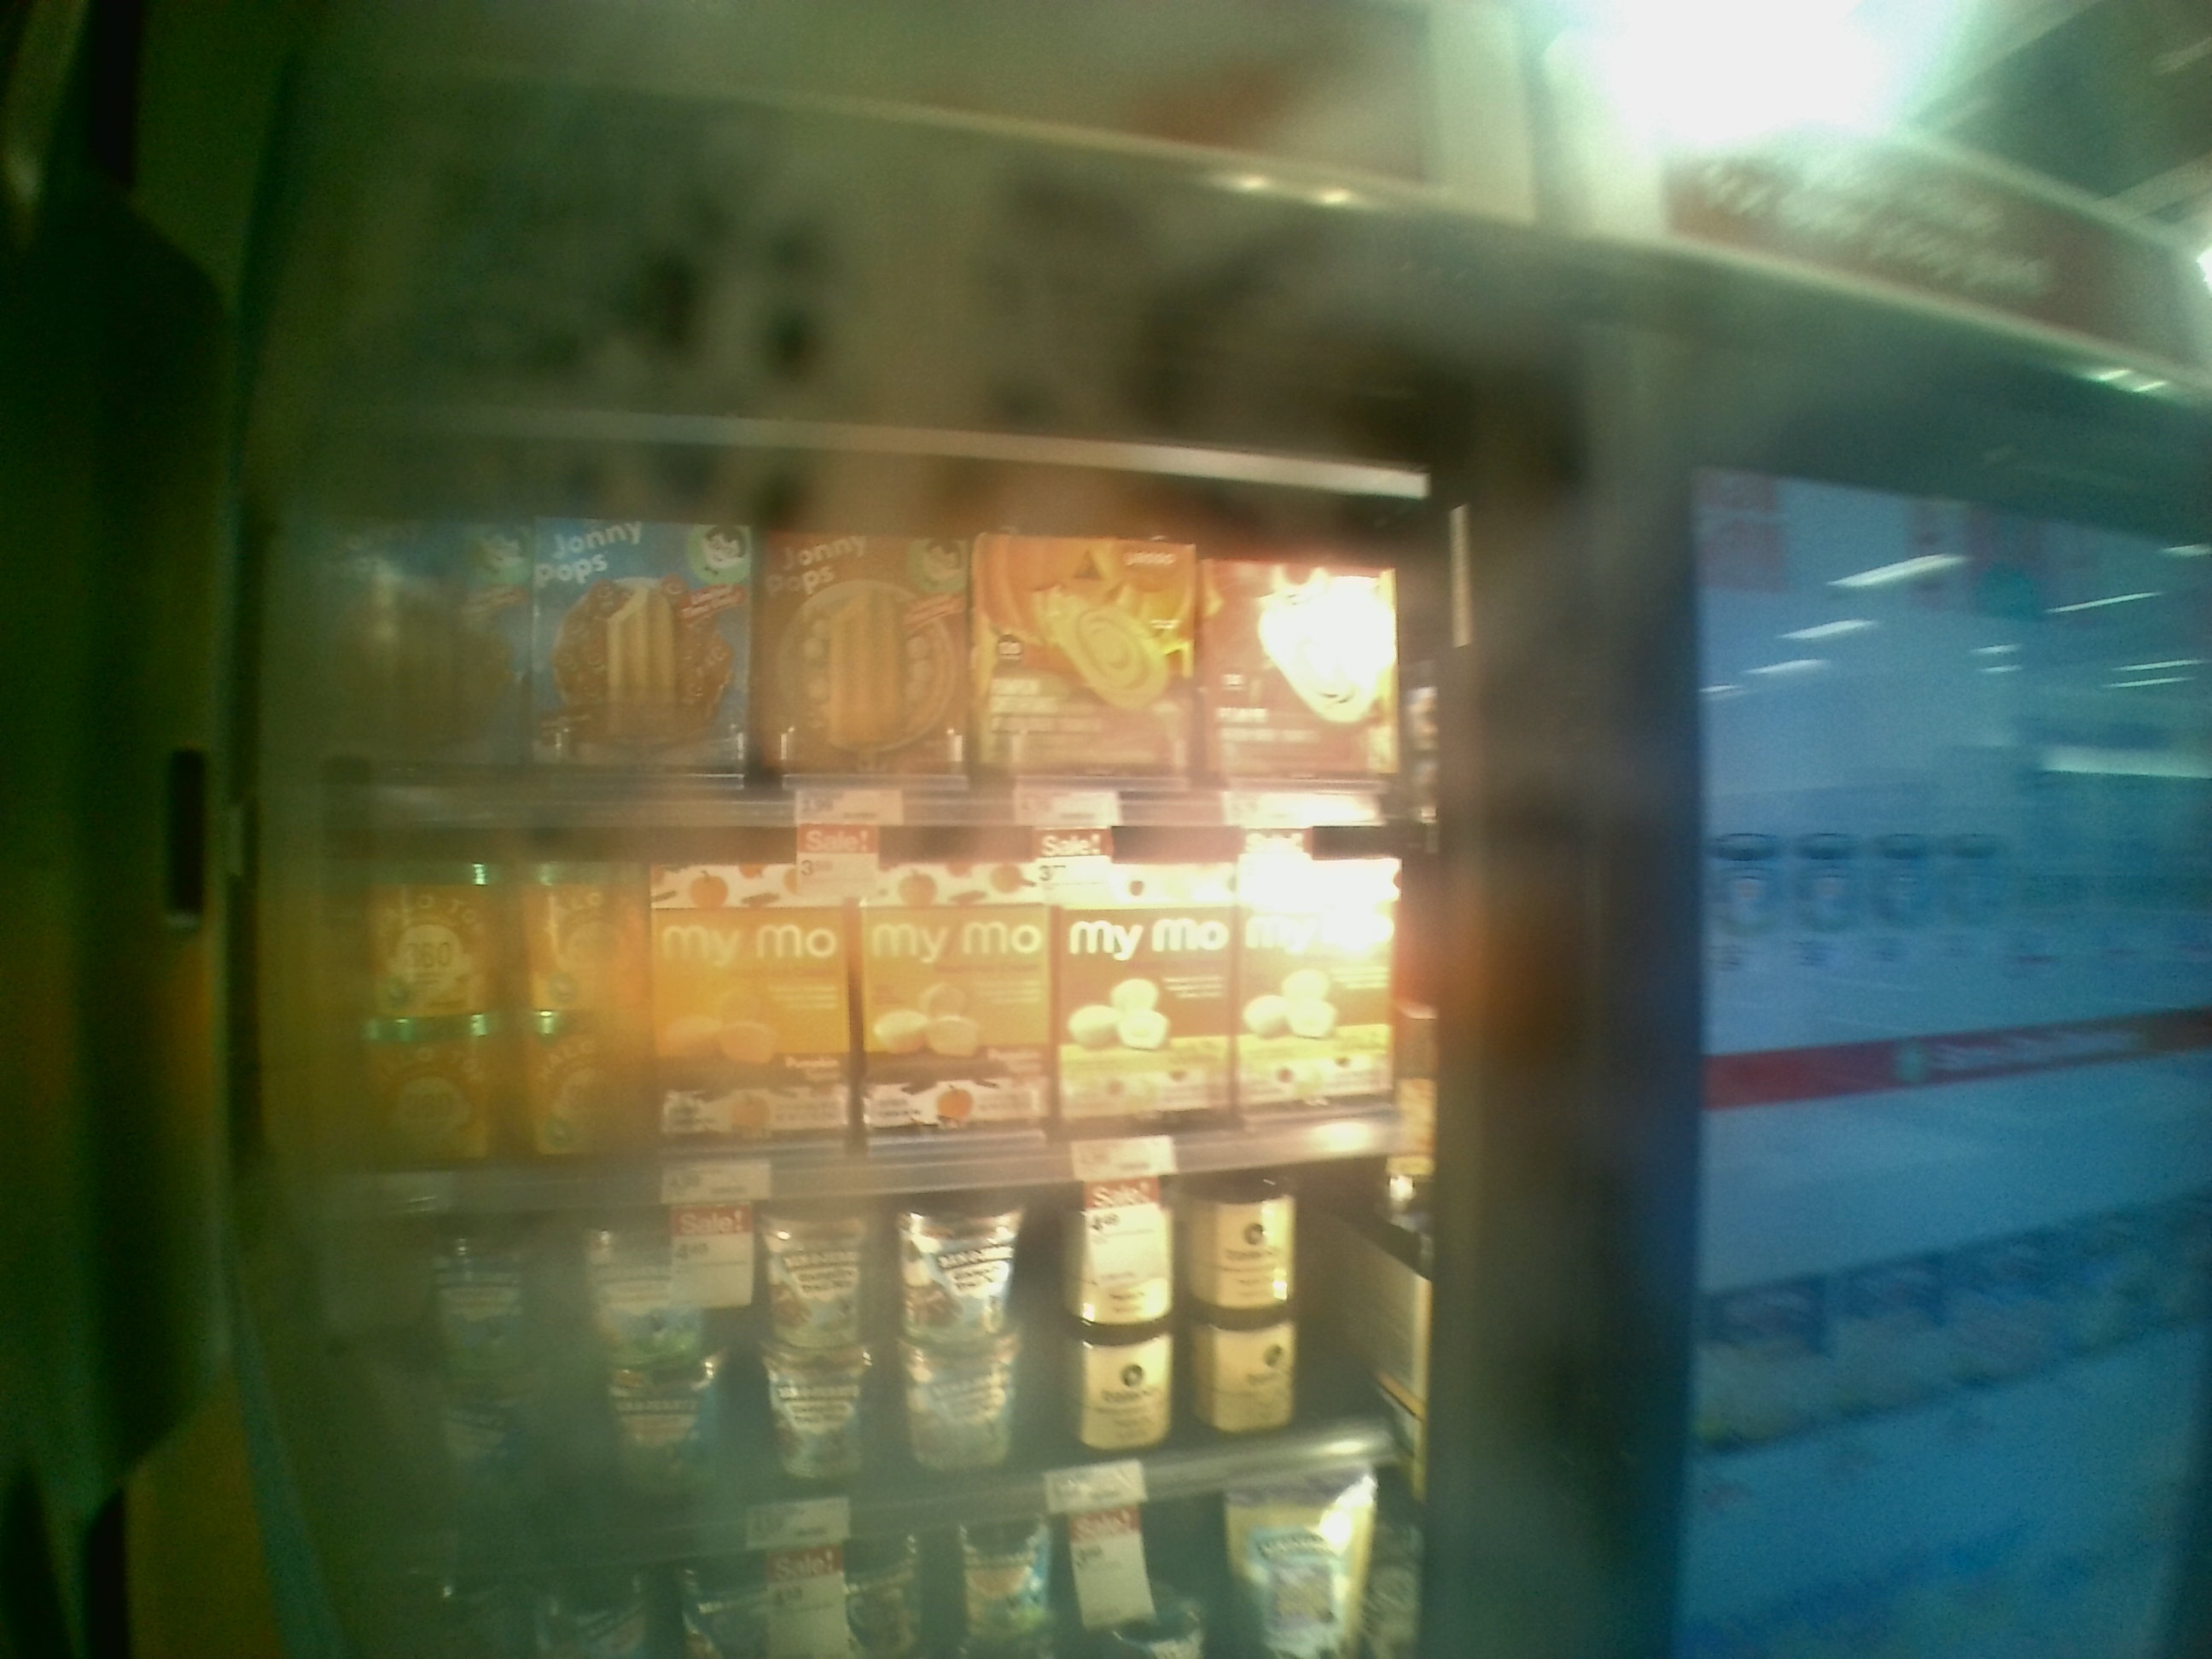shelf: (312, 422, 1421, 826), (298, 816, 1433, 1192), (303, 1195, 1432, 1554)
